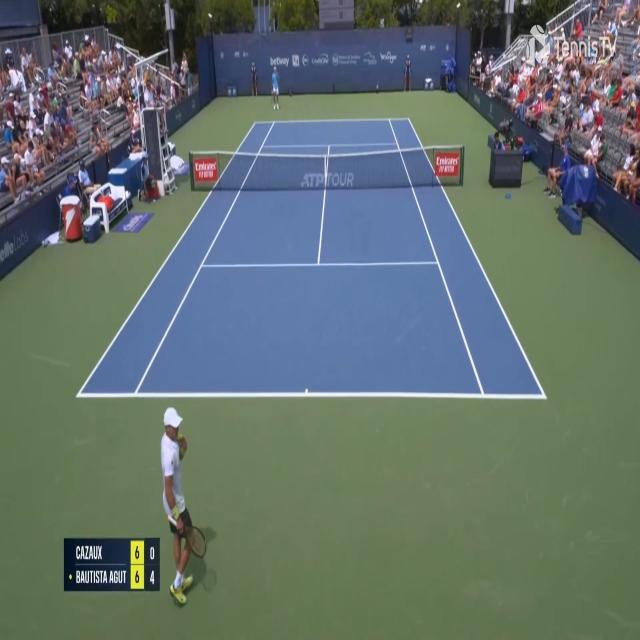tennis-player: (160, 403, 222, 610), (270, 63, 281, 111)
